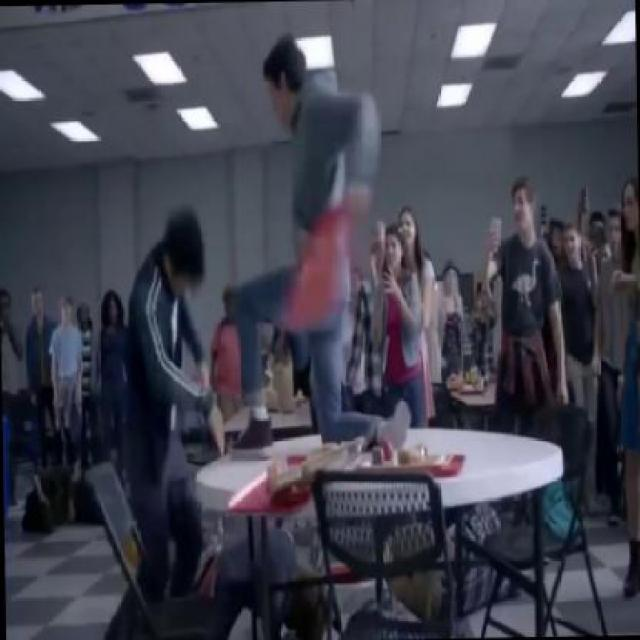fight: (113, 18, 370, 360)
non-fight: (481, 170, 556, 416), (367, 190, 444, 410), (610, 164, 638, 606), (22, 274, 86, 438)
